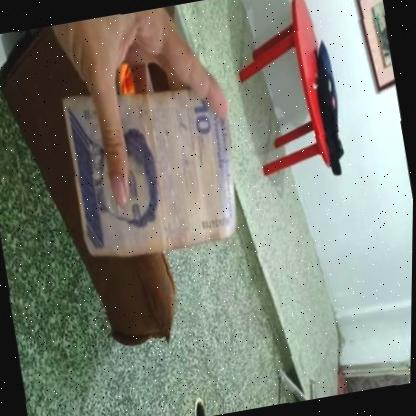ten-front-vef: (57, 70, 246, 264)
